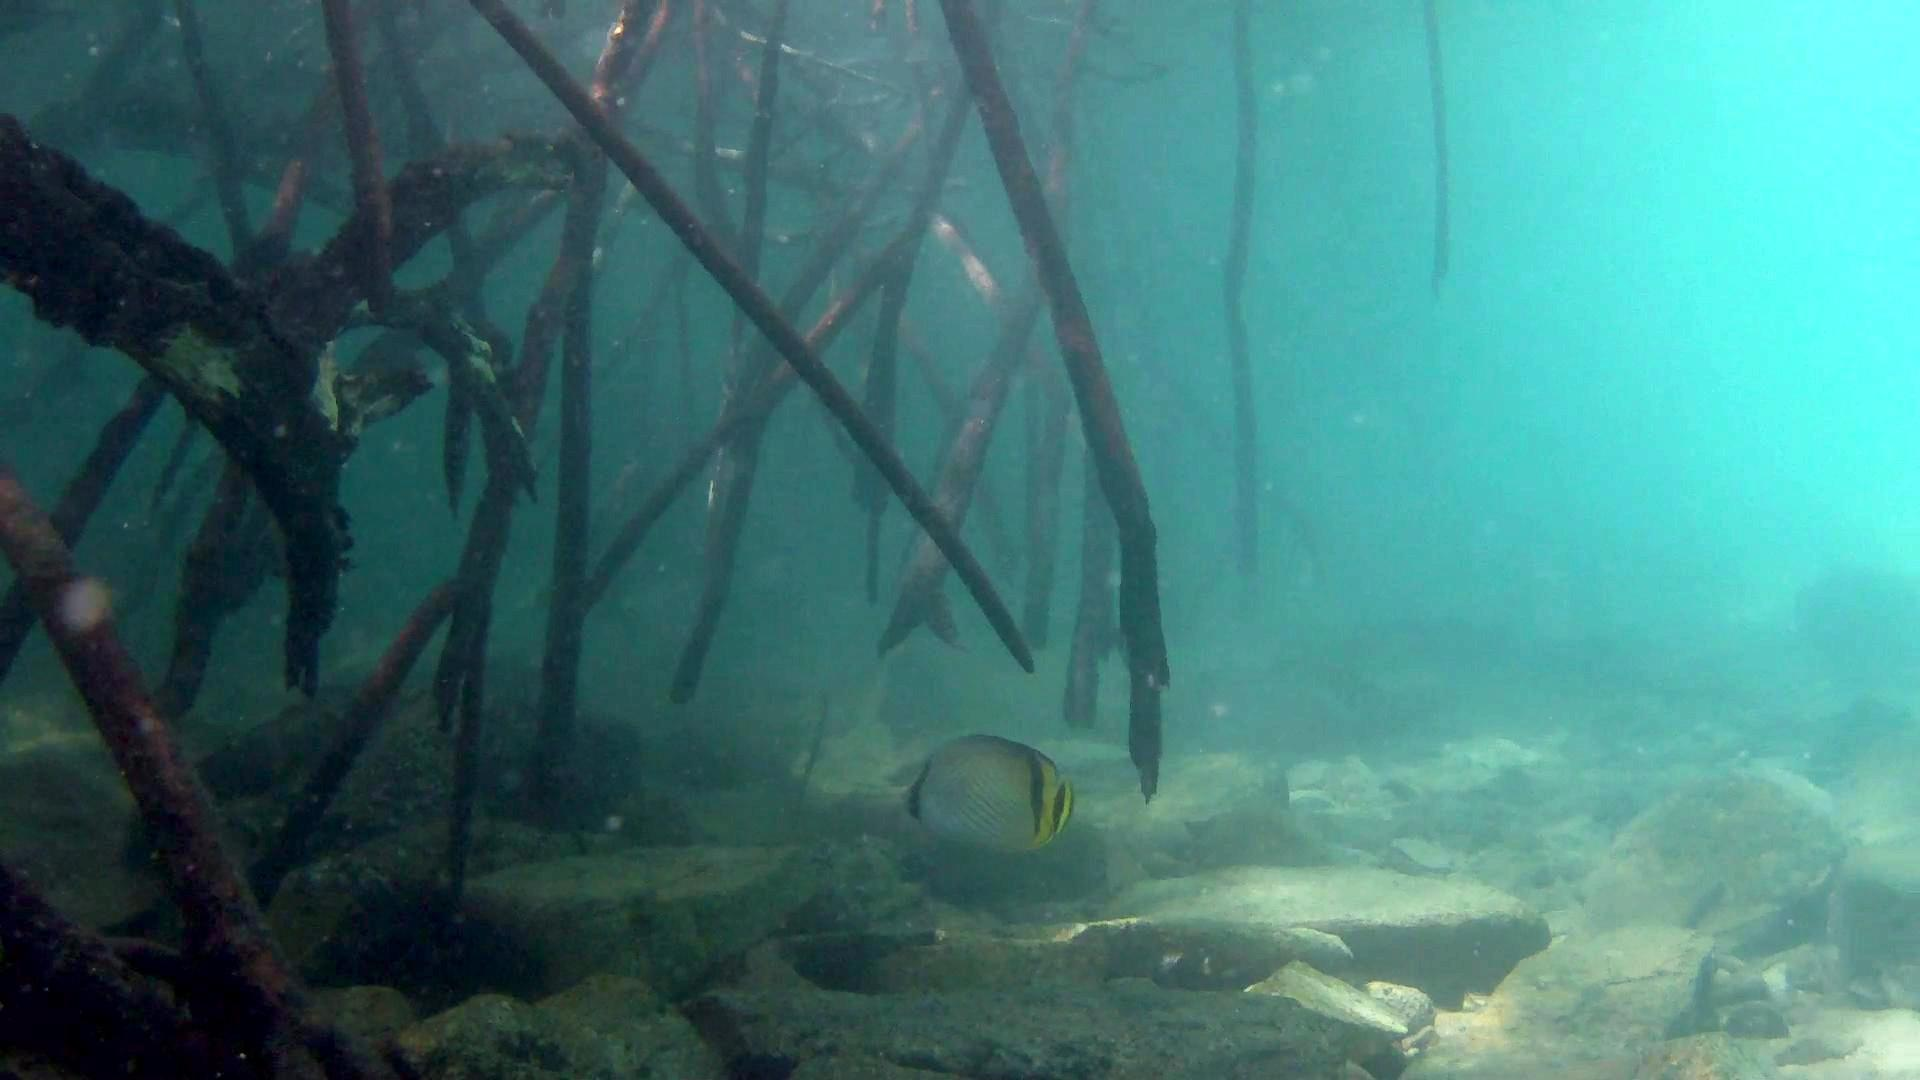chaetodon vagabundus: (892, 730, 1076, 852)
